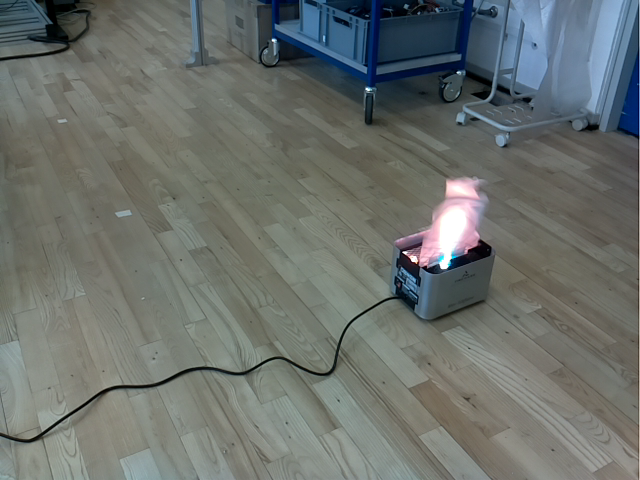fire: (419, 177, 488, 268)
